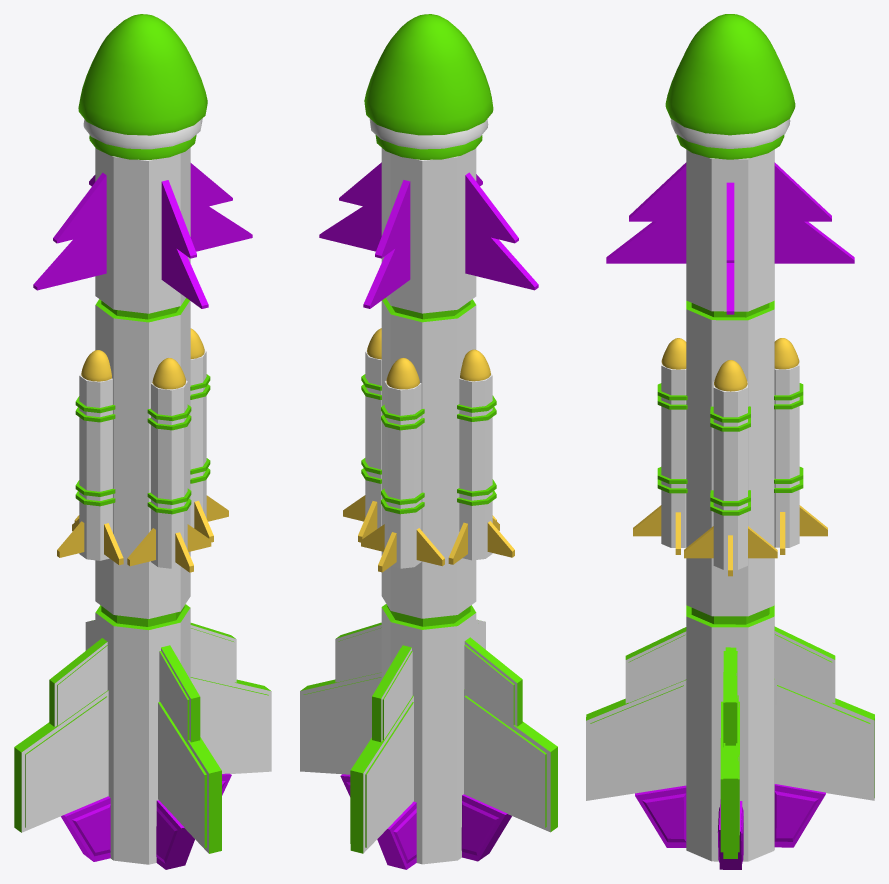
The model's file is deneme.fbx.
The picture shows the model from 3 angles, left to right: view 1: azimuth 30°, elevation 25°; view 2: azimuth 150°, elevation 25°; view 3: azimuth 270°, elevation 25°; orthographic projection.
Parts seen in each view (by area): view 1: Cylinder.007, Circle.012, Cube.027, Cube.029, Cube.023, Circle.010, Circle.008, Cube.035, Circle.006, Cube.032, Cube.022, Cube.028 (+4 smaller); view 2: Cylinder.007, Circle.012, Cube.027, Cube.025, Cube.023, Circle.007, Circle.008, Cube.035, Circle.006, Cube.031, Cube.022, Cube.028 (+4 smaller); view 3: Cylinder.007, Circle.012, Cube.029, Cube.025, Circle.006, Circle.010, Circle.007, Cube.032, Cube.031, Cube.023, Cube.026, Cube.030 (+5 smaller).
Part boxes in pixels (box(x1,y1,x2,y2)): Cylinder.007: box(95, 147, 190, 864); Circle.012: box(78, 14, 207, 159); Cube.027: box(14, 638, 108, 832); Cube.029: box(158, 645, 221, 853); Cube.023: box(190, 623, 271, 773); Circle.010: box(127, 358, 211, 572); Circle.008: box(57, 350, 123, 565); Cube.035: box(33, 172, 106, 290); Circle.006: box(190, 328, 228, 542); Cube.032: box(161, 180, 208, 308); Cube.022: box(190, 163, 252, 251); Cube.028: box(61, 796, 110, 861); Cylinder.007: box(381, 148, 476, 864); Circle.012: box(364, 14, 493, 159); Cube.027: box(464, 637, 557, 832); Cube.025: box(350, 645, 413, 853); Cube.023: box(300, 622, 381, 774); Circle.007: box(361, 357, 444, 572); Circle.008: box(448, 349, 514, 564); Cube.035: box(465, 172, 538, 290); Circle.006: box(343, 328, 381, 542); Cube.031: box(363, 180, 410, 308); Cube.022: box(319, 162, 381, 251); Cube.028: box(461, 794, 511, 861); Cylinder.007: box(686, 149, 774, 861); Circle.012: box(665, 14, 795, 159); Cube.029: box(586, 627, 686, 800); Cube.025: box(774, 626, 874, 800); Circle.006: box(684, 360, 777, 576); Circle.010: box(633, 338, 686, 554); Circle.007: box(774, 338, 827, 554); Cube.032: box(606, 162, 686, 263); Cube.031: box(774, 162, 854, 263); Cube.023: box(720, 647, 739, 858); Cube.026: box(774, 784, 825, 847); Cube.030: box(635, 785, 686, 847).
Bounding box in the file's own units: 291 × 291 × 919.
